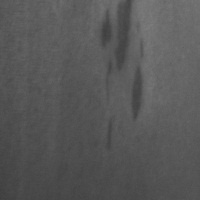inclusion: (97, 1, 139, 106), (125, 60, 147, 127), (102, 110, 119, 157)
